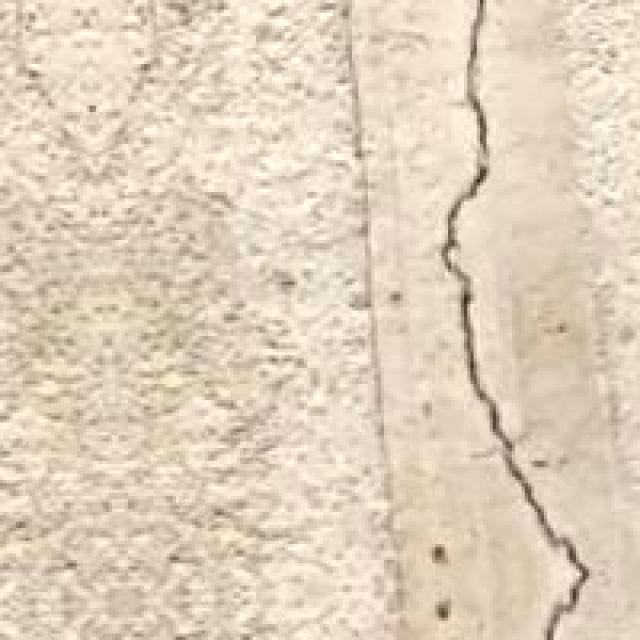crack: (400, 0, 618, 640)
